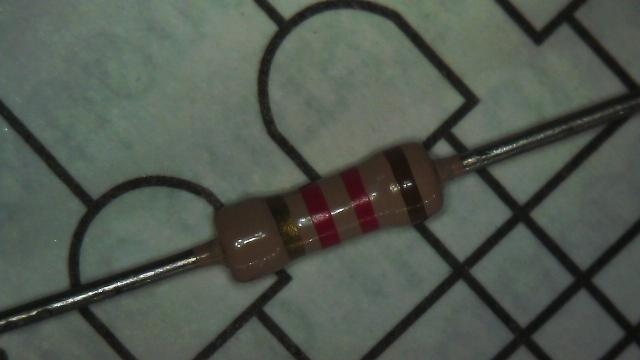brown: (386, 148, 428, 225)
gold: (268, 196, 306, 259)
red: (300, 182, 340, 248), (341, 167, 378, 233)
resistor: (186, 111, 478, 311)
